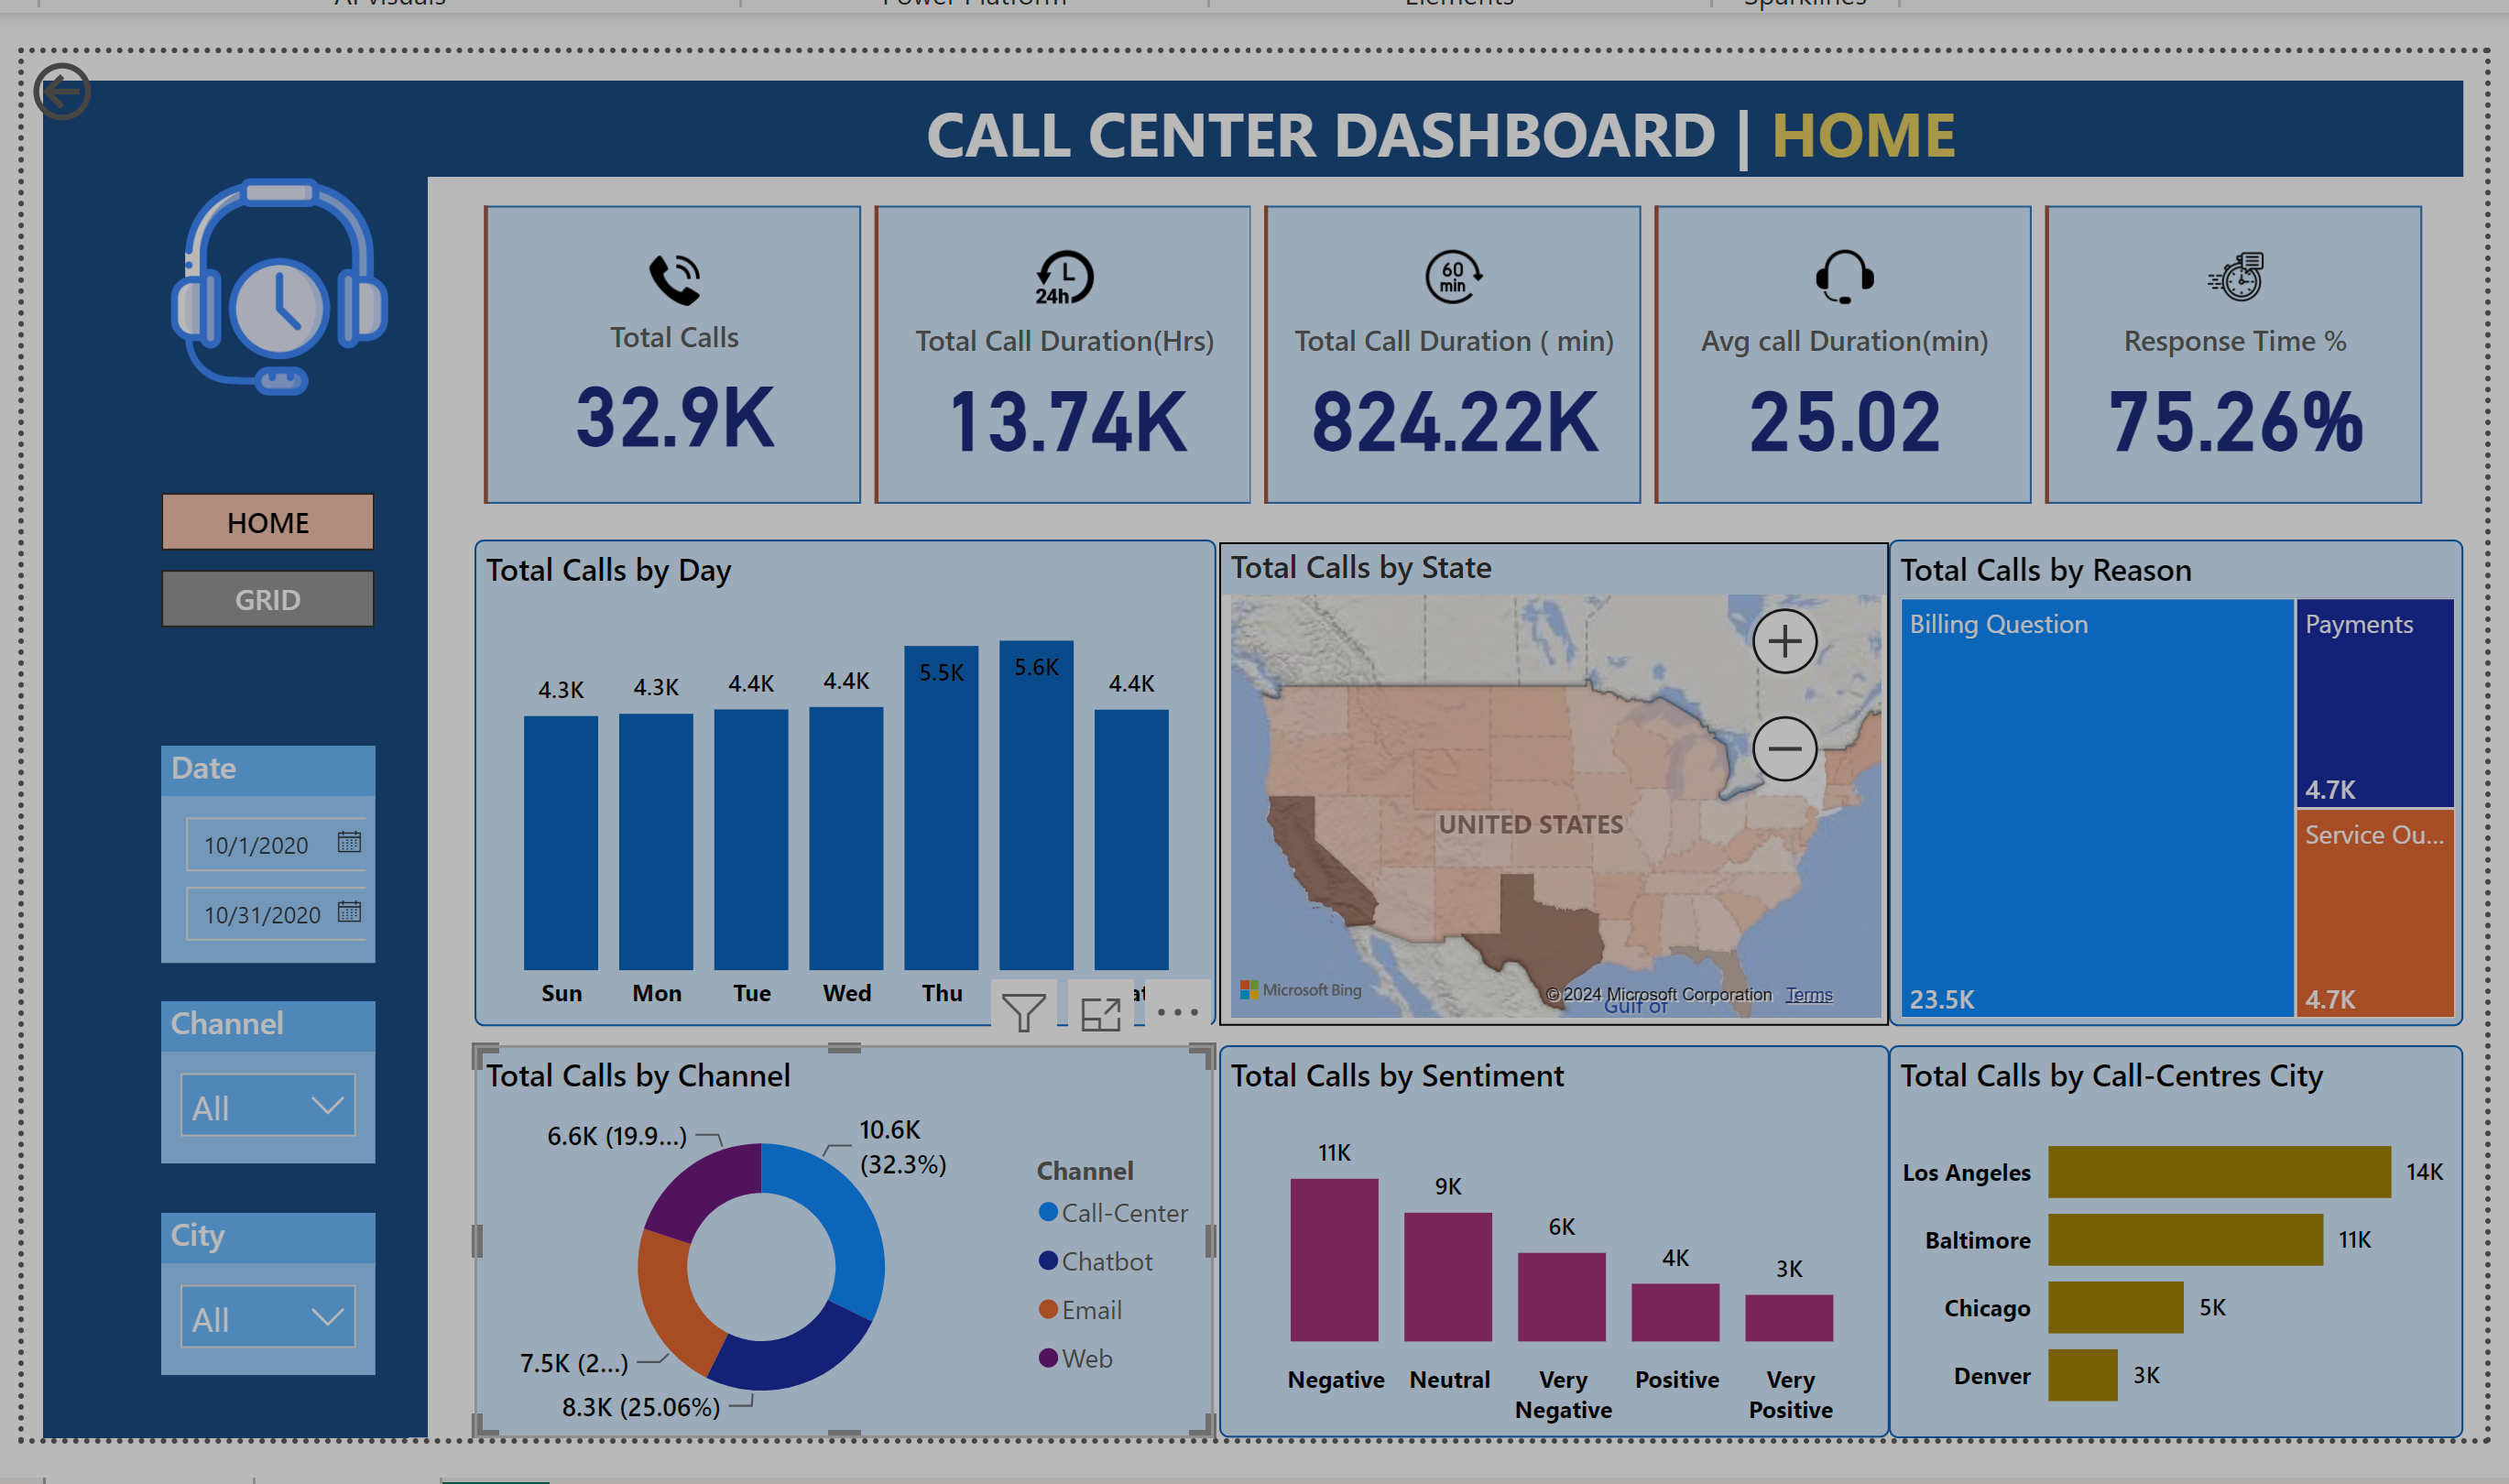

The dashboard page shown, as its layout file describes it:
{"tool":"powerbi","page":{"name":"HOME","canvas":[1280,720],"ordinal":0},"visuals":[{"type":"shape","box":[10.6,13.6,1258.8,50],"z":0},{"type":"shape","box":[10.6,62.2,190,658.2],"z":1000},{"type":"cardVisual","fields":{"Data":["Call Center_Call Center.Total Calls","Call Center_Call Center.Total Call Duration(Hrs)","Call Center_Call Center.Total Call Duration ( min)","Call Center_Call Center.Avg call Duration(min)","Call Center_Call Center.Response Time %"]},"box":[234.3,74.3,1018.6,165.7],"z":2000},{"type":"textbox","box":[221.4,687,1019.1,33.4],"z":3000},{"type":"textbox","box":[464.1,13.6,597.5,71.3],"z":4000},{"type":"columnChart","fields":{"Category":["Date Table.Day"],"Y":["Call Center_Call Center.Total Calls"]},"box":[234.3,252.9,385.7,252.9],"z":5000},{"type":"actionButton","box":[0,0,100,40],"z":6000},{"type":"filledMap","fields":{"Category":["Call Center_Call Center.State"]},"box":[621.4,254.3,348.6,251.4],"z":7000},{"type":"treemap","fields":{"Group":["Call Center_Call Center.Reason"],"Values":["Call Center_Call Center.Total Calls"]},"box":[970,252.9,298.6,252.9],"z":8000},{"type":"donutChart","fields":{"Category":["Call Center_Call Center.Channel"],"Y":["Call Center_Call Center.Total Calls"]},"box":[234.3,515.7,384.3,204.3],"z":9000},{"type":"columnChart","fields":{"Category":["Call Center_Call Center.Sentiment"],"Y":["Call Center_Call Center.Total Calls"]},"box":[621,516,349,204],"z":10000},{"type":"clusteredBarChart","fields":{"Category":["Call Center_Call Center.Call-Centres City"],"Y":["Call Center_Call Center.Total Calls"]},"box":[970,515.7,298.6,204.3],"z":11000},{"type":"slicer","title":"Date","fields":{"Values":["Date Table.Date"]},"box":[77.1,347.1,111.4,112.9],"z":12000},{"type":"slicer","title":"Channel","fields":{"Values":["Call Center_Call Center.Channel"]},"box":[77.1,478.6,111.4,84.3],"z":13000},{"type":"slicer","title":"City","fields":{"Values":["Call Center_Call Center.City"]},"box":[77.1,592.9,111.4,84.3],"z":14000},{"type":"pageNavigator","box":[77.1,228.6,111.4,71.4],"z":15000},{"type":"textbox","box":[77.1,194.3,77.1,22.9],"z":16000},{"type":"image","box":[54.3,74.3,122.9,107.1],"z":17000},{"type":"shape","box":[10.6,61.8,190,658.2],"z":18000},{"type":"shape","box":[20.6,61.8,190,658.2],"z":18001},{"type":"image","box":[71.4,50,122.9,142.9],"z":18002},{"type":"pageNavigator","box":[71.4,228.6,111.4,71.4],"z":18003},{"type":"slicer","title":"Date","fields":{"Values":["Date Table.Date"]},"box":[71.4,360,111.4,112.9],"z":18004},{"type":"slicer","title":"Channel","fields":{"Values":["Call Center_Call Center.Channel"]},"box":[71.4,492.9,111.4,84.3],"z":18005},{"type":"slicer","title":"City","fields":{"Values":["Call Center_Call Center.City"]},"box":[71.4,602.9,111.4,84.3],"z":18006}]}

Visuals, with their boxes on the page's 1280x720 design canvas (x1, y1, x2, y2). These are canvas units, not pixel positions in the 2509x1484 screenshot, which may show the page scaled, cropped or inside an application window:
shape: bbox(11, 14, 1269, 64)
shape: bbox(11, 62, 201, 720)
cardVisual - Call Center_Call Center.Total Calls x Call Center_Call Center.Total Call Duration(Hrs): bbox(234, 74, 1253, 240)
textbox: bbox(221, 687, 1240, 720)
textbox: bbox(464, 14, 1062, 85)
columnChart - Date Table.Day x Call Center_Call Center.Total Calls: bbox(234, 253, 620, 506)
actionButton: bbox(0, 0, 100, 40)
filledMap - Call Center_Call Center.State: bbox(621, 254, 970, 506)
treemap - Call Center_Call Center.Reason x Call Center_Call Center.Total Calls: bbox(970, 253, 1269, 506)
donutChart - Call Center_Call Center.Channel x Call Center_Call Center.Total Calls: bbox(234, 516, 619, 720)
columnChart - Call Center_Call Center.Sentiment x Call Center_Call Center.Total Calls: bbox(621, 516, 970, 720)
clusteredBarChart - Call Center_Call Center.Call-Centres City x Call Center_Call Center.Total Calls: bbox(970, 516, 1269, 720)
"Date" slicer: bbox(77, 347, 188, 460)
"Channel" slicer: bbox(77, 479, 188, 563)
"City" slicer: bbox(77, 593, 188, 677)
pageNavigator: bbox(77, 229, 188, 300)
textbox: bbox(77, 194, 154, 217)
image: bbox(54, 74, 177, 181)
shape: bbox(11, 62, 201, 720)
shape: bbox(21, 62, 211, 720)
image: bbox(71, 50, 194, 193)
pageNavigator: bbox(71, 229, 183, 300)
"Date" slicer: bbox(71, 360, 183, 473)
"Channel" slicer: bbox(71, 493, 183, 577)
"City" slicer: bbox(71, 603, 183, 687)
